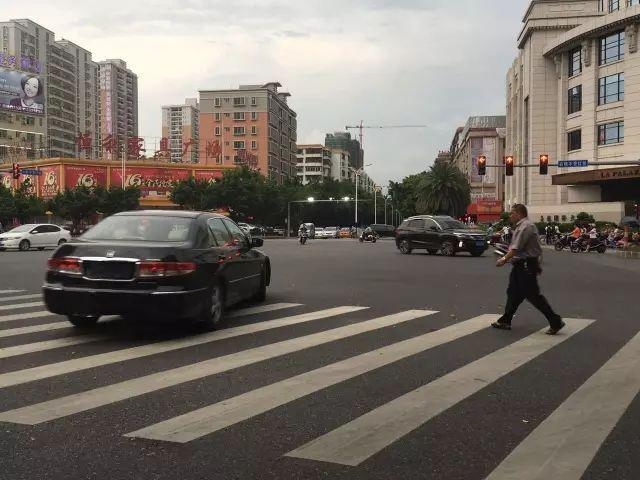bicycle: (298, 234, 309, 248)
car: (41, 209, 272, 331), (394, 215, 489, 257), (214, 205, 265, 247), (235, 222, 264, 246), (366, 224, 395, 238), (320, 226, 340, 239), (337, 226, 353, 238)
motorcycle: (575, 234, 609, 253), (554, 233, 573, 252)
person: (490, 203, 565, 336), (587, 222, 598, 251), (298, 223, 310, 246), (571, 224, 581, 241)
sign: (556, 159, 590, 168)
traffic light: (536, 153, 550, 176), (504, 155, 515, 176), (477, 154, 487, 175)
